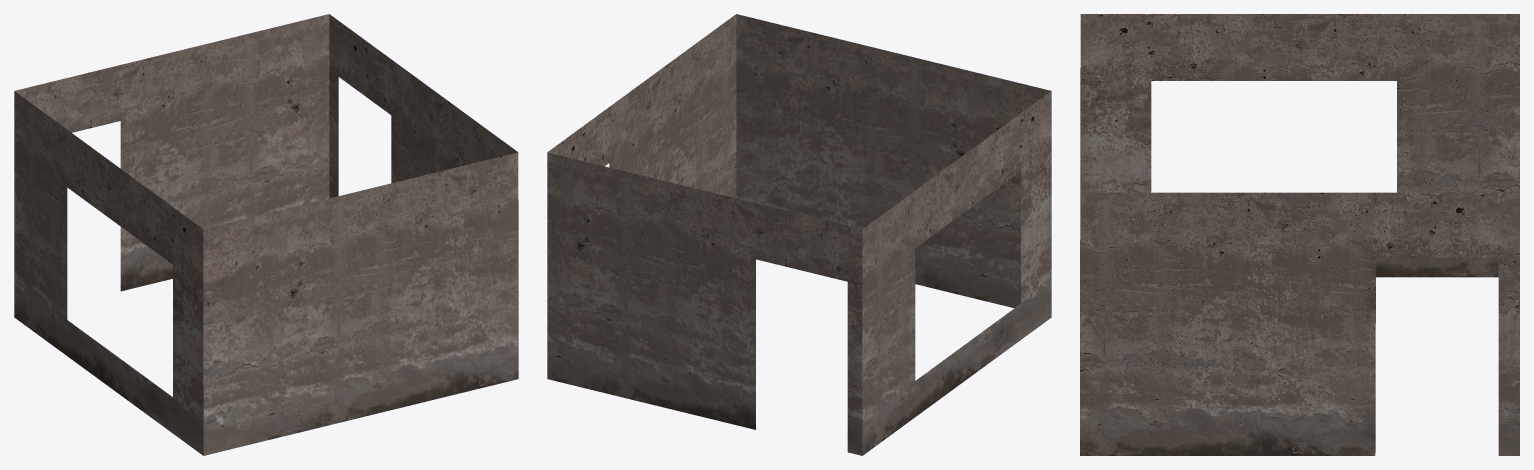
Rendered from RoofArea01_Walls.FBX.
The picture shows the model from 3 angles, left to right: view 1: azimuth 30°, elevation 25°; view 2: azimuth 150°, elevation 25°; view 3: azimuth 270°, elevation 25°; orthographic projection. The views are drawn at different scales.
Parts seen in each view (by area): view 1: RoofArea01_Walls; view 2: RoofArea01_Walls; view 3: RoofArea01_Walls.
Part boxes in pixels (x1,y1,x2,y2): RoofArea01_Walls: (14,14,518,455); RoofArea01_Walls: (547,14,1051,455); RoofArea01_Walls: (1080,14,1519,455).
Size of the model in its own units: 430 by 296 by 448.
